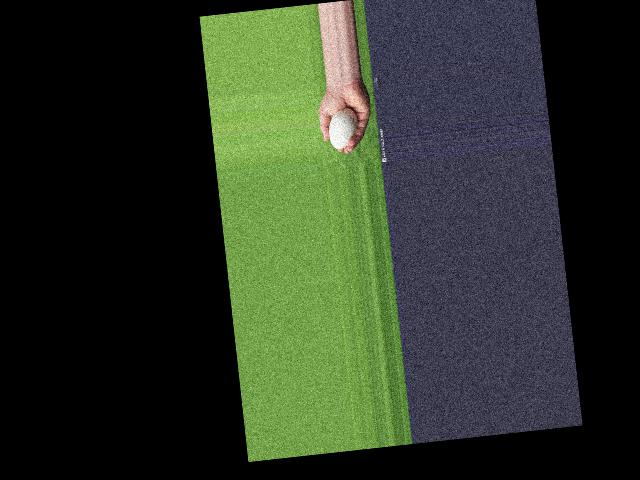egg: (326, 106, 361, 149)
